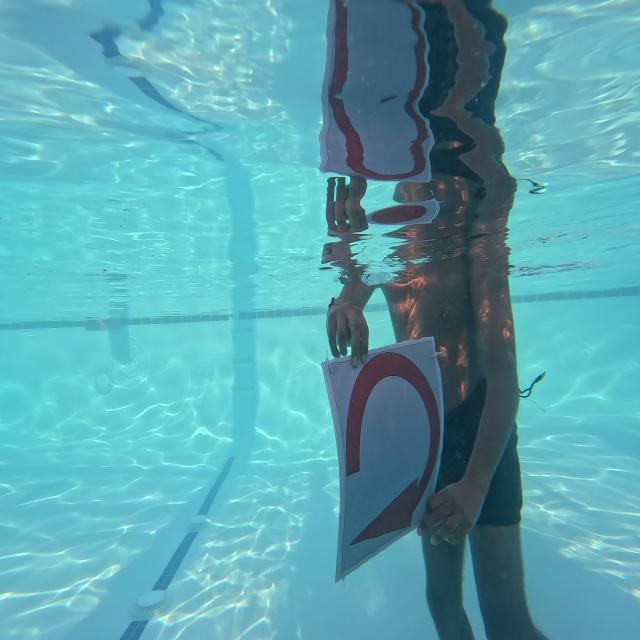red_side: (328, 338, 446, 567)
